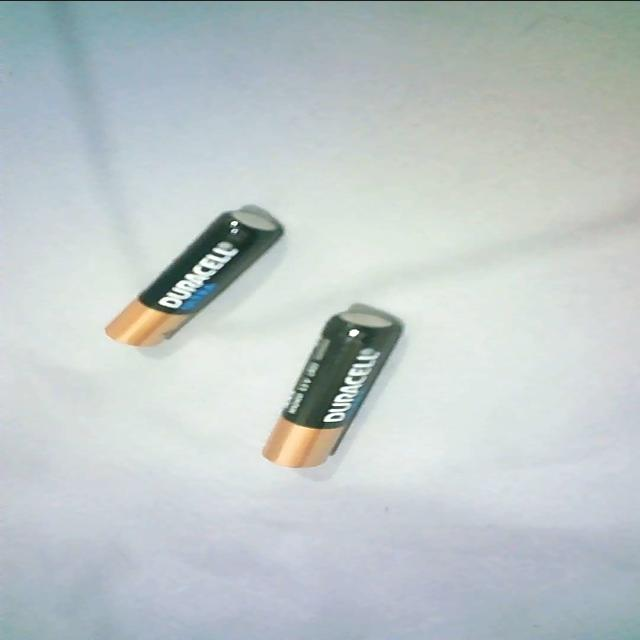AAA: (96, 203, 286, 349), (254, 308, 406, 472)
